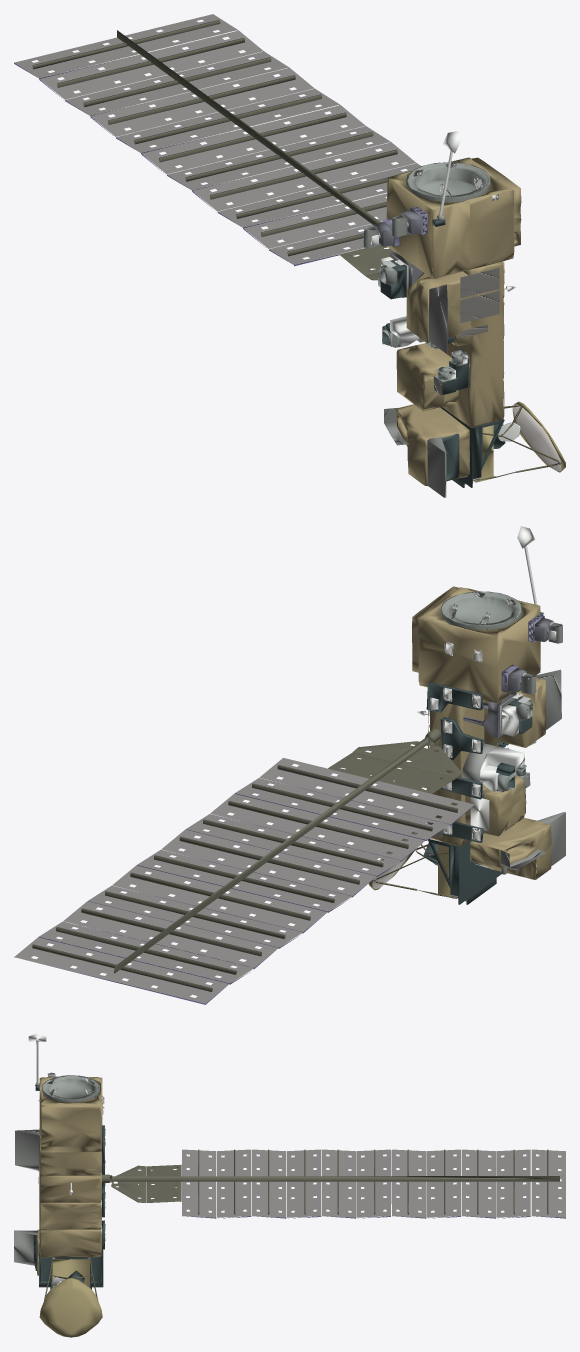
The model's file is space-aqua.glb.
The picture shows the model from 3 angles, top to bottom: view 1: azimuth 30°, elevation 25°; view 2: azimuth 150°, elevation 25°; view 3: azimuth 270°, elevation 25°; orthographic projection. The views are drawn at different scales.
Parts seen in each view (by area): view 1: Aqua_Reduced_v0014 [Aqua_Layered_02 [(unnamed)]]; view 2: Aqua_Reduced_v0014 [Aqua_Layered_02 [(unnamed)]]; view 3: Aqua_Reduced_v0014 [Aqua_Layered_02 [(unnamed)]].
Part boxes in pixels (x1,y1,x2,y2): Aqua_Reduced_v0014 [Aqua_Layered_02 [(unnamed)]]: [14, 14, 565, 497]; Aqua_Reduced_v0014 [Aqua_Layered_02 [(unnamed)]]: [14, 526, 565, 1004]; Aqua_Reduced_v0014 [Aqua_Layered_02 [(unnamed)]]: [14, 1033, 565, 1337].
Bounding box in the file's own units: 124 × 229 × 434.
Materials: 2 (2 with a texture image).
